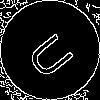U: (25, 25, 83, 82)
